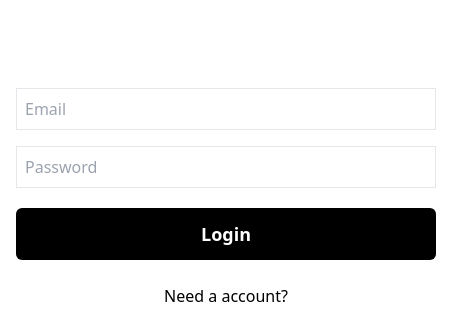
Scenario: Testing login error messages › Complete all required fields
Click the button "Login": (226,234) [16,208,436,260]
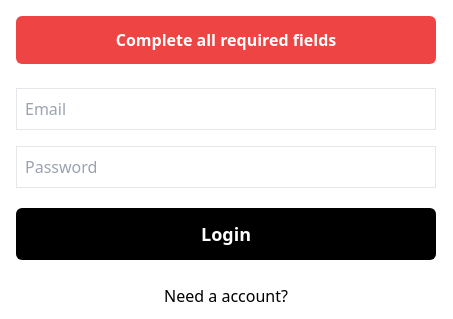
expect the text "Complete all required fields" is shown: met, box [16,16,436,64]
